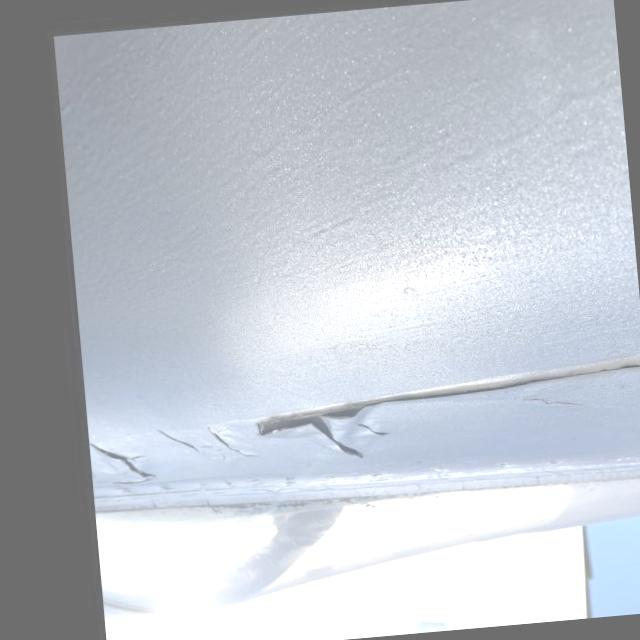crack: (150, 415, 262, 465), (506, 388, 598, 419), (354, 418, 389, 446)
